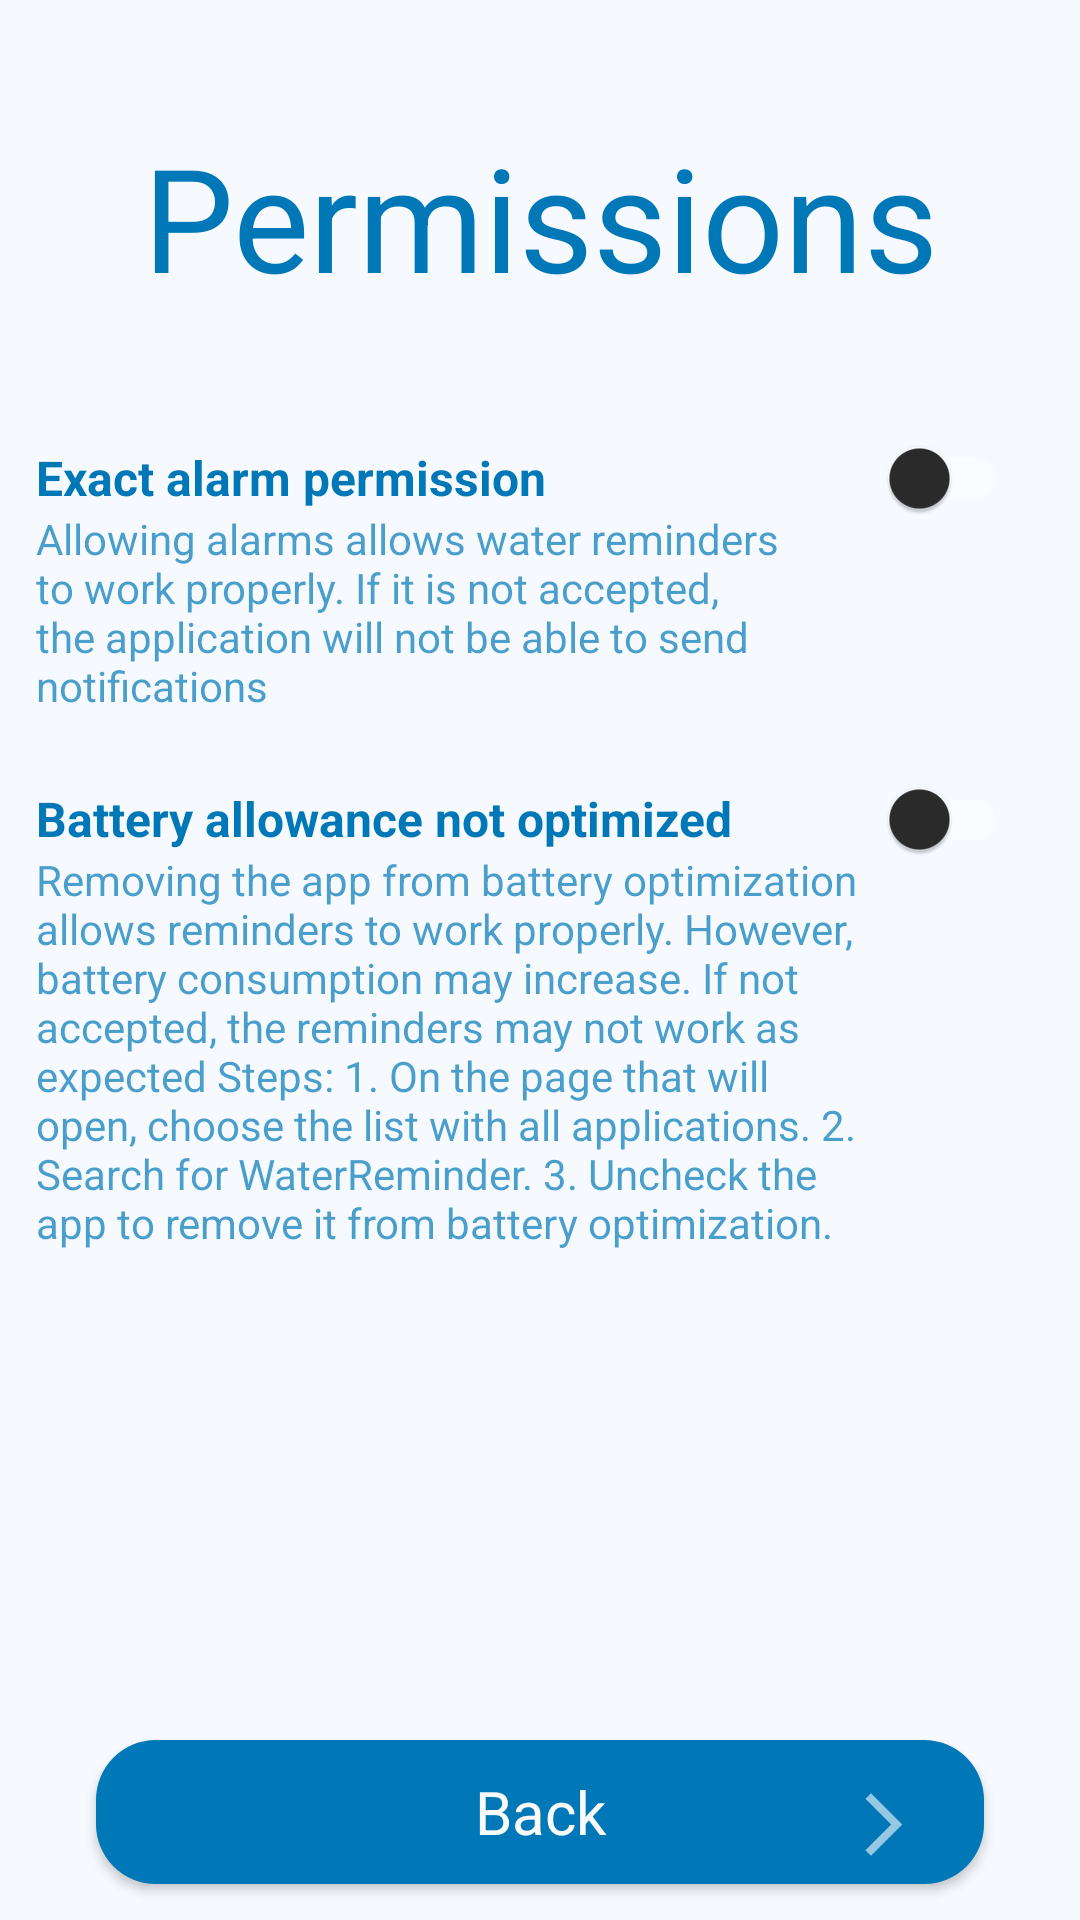

Icons on this 1080*1920 Android screen, each with the point to tap as point (x, y):
arrow next: point (883, 1824)
